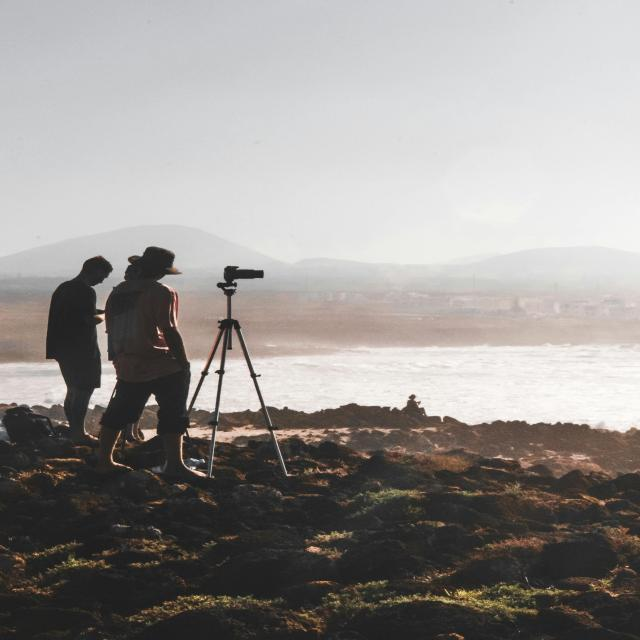stand: (96, 243, 203, 481), (43, 245, 105, 443)
